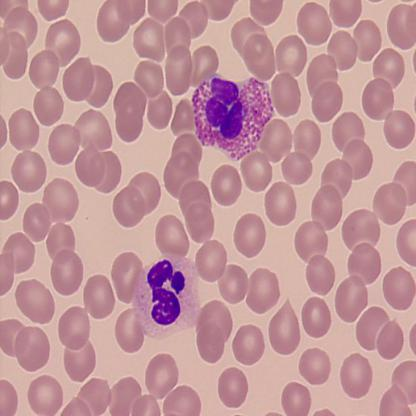Eosinophil: (190, 70, 274, 160)
